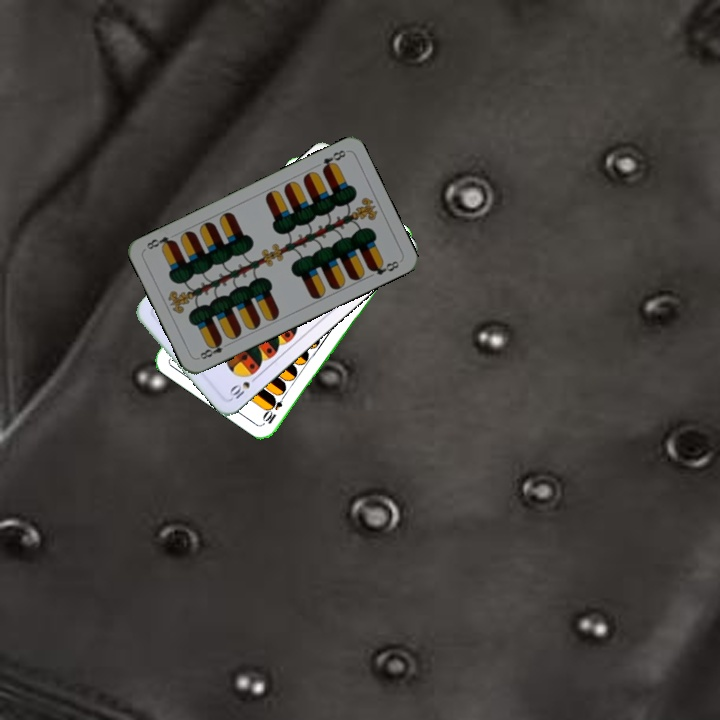E10: (260, 389, 288, 427)
E8: (194, 336, 233, 362), (318, 146, 349, 174)
S10: (225, 371, 261, 402)
